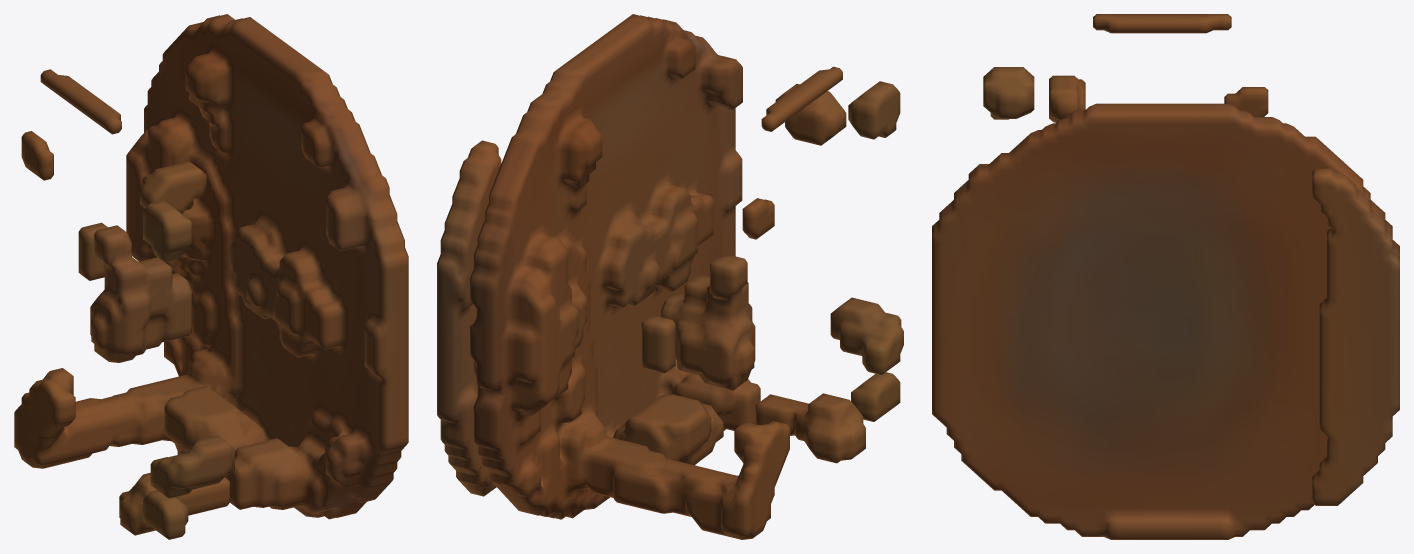
File: A table with round shaped plank and has five legs.glb
3 renders of one model, left to right at view 1: azimuth 30°, elevation 25°; view 2: azimuth 150°, elevation 25°; view 3: azimuth 270°, elevation 25°, orthographic. The views are drawn at different scales.
Parts seen in each view (by area): view 1: A table with round shaped plank and has five legs; view 2: A table with round shaped plank and has five legs; view 3: A table with round shaped plank and has five legs.
Boxes of the visible parts, left/top/right/bottom form: A table with round shaped plank and has five legs: left=14, top=14, right=408, bottom=539; A table with round shaped plank and has five legs: left=437, top=14, right=903, bottom=539; A table with round shaped plank and has five legs: left=932, top=14, right=1399, bottom=539.
Bounding box in the file's own units: 38 × 64 × 64.
